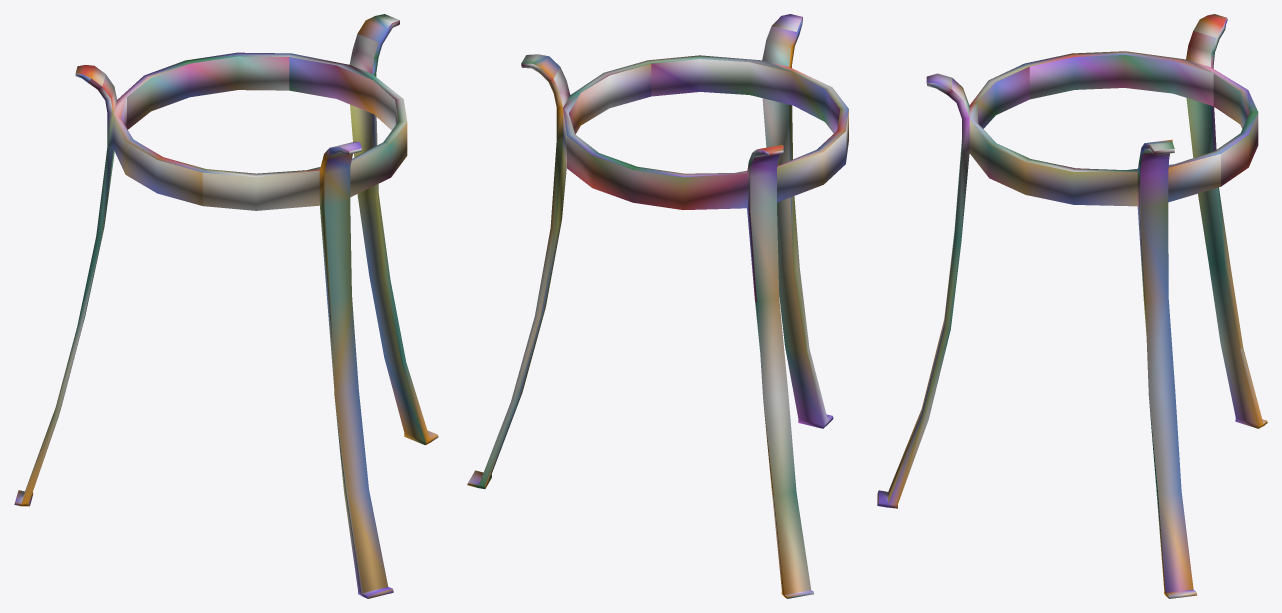
File: SM_stand.fbx
3 renders of one model, left to right at view 1: azimuth 30°, elevation 25°; view 2: azimuth 150°, elevation 25°; view 3: azimuth 270°, elevation 25°, orthographic. The views are drawn at different scales.
Visible parts, largest first — view 1: stand; view 2: stand; view 3: stand.
Boxes of the visible parts, bbox=[...] form: stand: bbox=[14, 14, 438, 598]; stand: bbox=[467, 14, 848, 598]; stand: bbox=[877, 14, 1267, 598].
Size of the model in its own units: 64.48 by 69.83 by 57.49.
